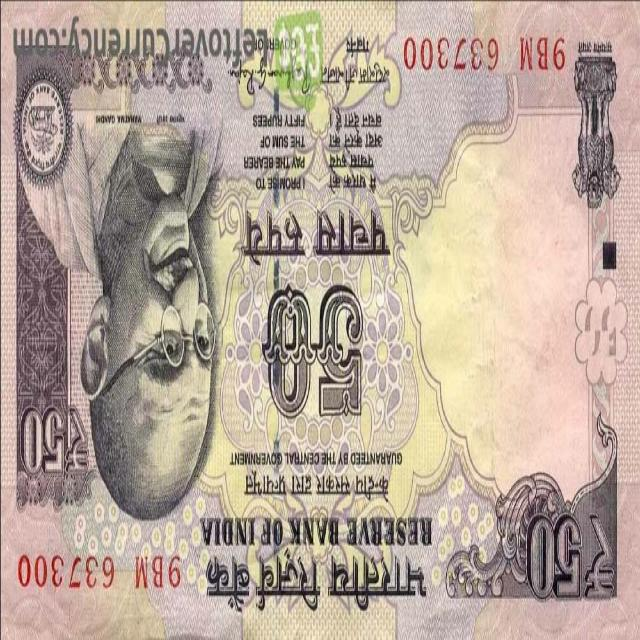50IndianRupees: (0, 0, 640, 640), (0, 0, 442, 640), (224, 0, 639, 638)
